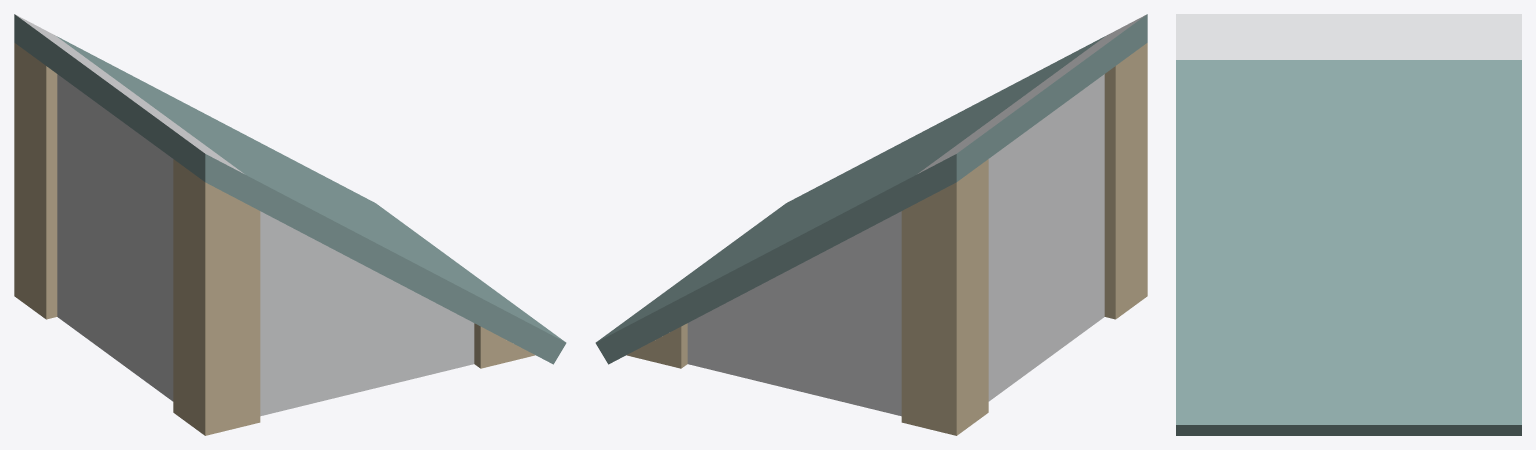
File: Roof_Slant_Green_01.glb
The picture shows the model from 3 angles, left to right: view 1: azimuth 30°, elevation 25°; view 2: azimuth 150°, elevation 25°; view 3: azimuth 270°, elevation 25°; orthographic projection. The views are drawn at different scales.
Visible parts, largest first — view 1: Roof_Slant_Green_01; view 2: Roof_Slant_Green_01; view 3: Roof_Slant_Green_01.
Part boxes in pixels (bbox=[...]): Roof_Slant_Green_01: bbox=[14, 14, 566, 435]; Roof_Slant_Green_01: bbox=[595, 14, 1147, 435]; Roof_Slant_Green_01: bbox=[1176, 14, 1521, 435].
Size of the model in its own units: 3.28 by 2.57 by 3.
